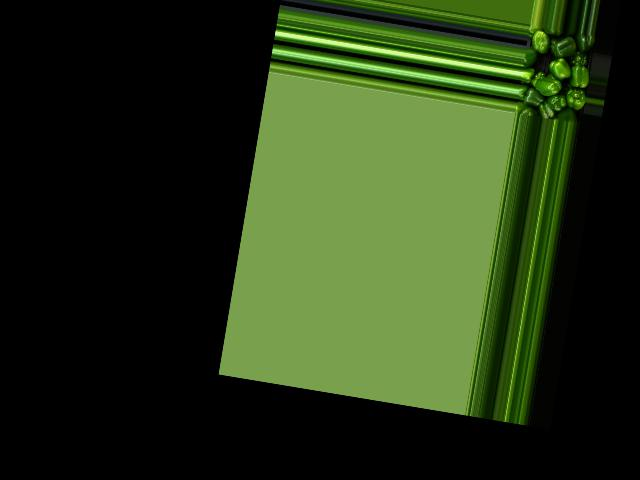bell_pepper: (553, 106, 574, 123)
